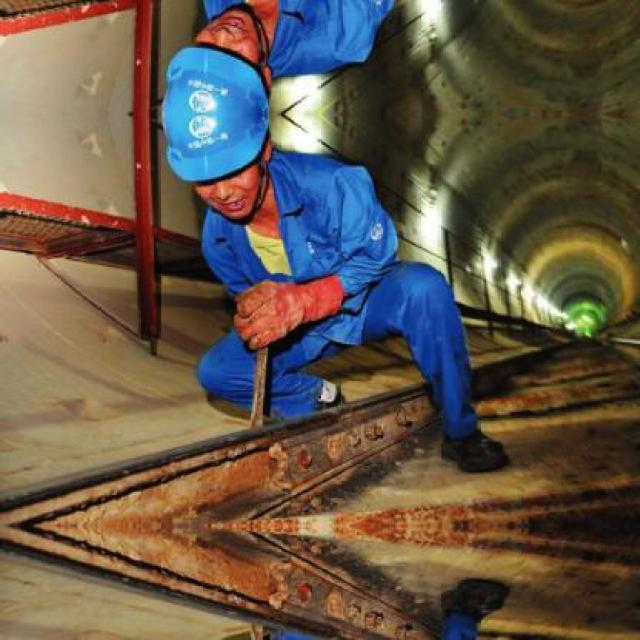helmet: (160, 114, 283, 228), (160, 0, 283, 114)
